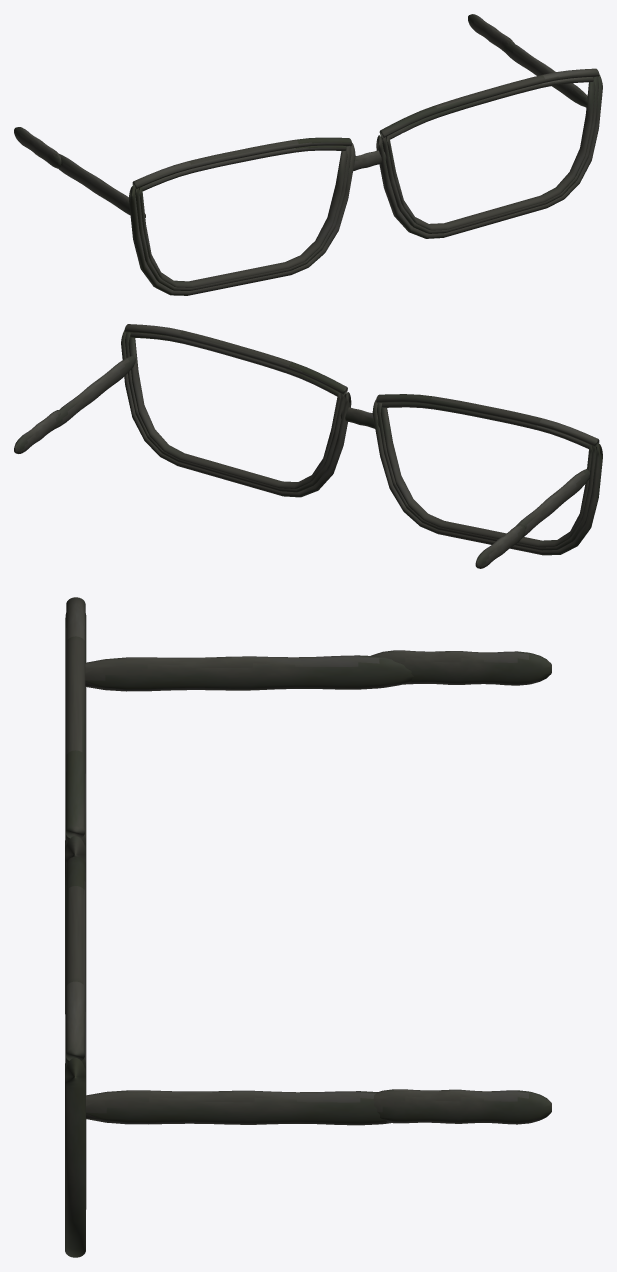
3 renders of one model, top to bottom at view 1: azimuth 30°, elevation 25°; view 2: azimuth 150°, elevation 25°; view 3: azimuth 270°, elevation 25°, orthographic. The views are drawn at different scales.
Visible parts, largest first — view 1: Cylinder.015, Cylinder.014, Cylinder.010, Cylinder.019, Cylinder.018, Cylinder.011, Cylinder.017, Cylinder.012, Mball.014, Mball.008, Cylinder.013, Cylinder.016 (+3 smaller); view 2: Cylinder.015, Cylinder.014, Cylinder.010, Cylinder.019, Cylinder.018, Cylinder.011, Cylinder.017, Cylinder.012, Mball.008, Mball.014, Cylinder.013, Cylinder.016 (+3 smaller); view 3: Mball.014, Mball.008, Mball.009, Mball.011, Cylinder.011, Cylinder.019, Cylinder.018.
Boxes of the visible parts, <box> form: Cylinder.015: <box>386,80,595,230</box>; Cylinder.014: <box>139,149,347,287</box>; Cylinder.010: <box>129,143,355,295</box>; Cylinder.019: <box>376,74,602,238</box>; Cylinder.018: <box>379,68,599,138</box>; Cylinder.011: <box>132,137,351,189</box>; Cylinder.017: <box>381,76,598,233</box>; Cylinder.012: <box>135,146,351,290</box>; Mball.014: <box>58,154,145,217</box>; Mball.008: <box>502,43,587,107</box>; Cylinder.013: <box>142,145,346,191</box>; Cylinder.016: <box>389,77,593,139</box>; Cylinder.015: <box>128,336,341,488</box>; Cylinder.014: <box>380,405,592,547</box>; Cylinder.010: <box>372,399,602,555</box>; Cylinder.019: <box>121,330,351,497</box>; Cylinder.018: <box>124,324,347,394</box>; Cylinder.011: <box>376,394,599,446</box>; Cylinder.017: <box>125,332,346,492</box>; Cylinder.012: <box>377,402,596,550</box>; Mball.008: <box>55,356,135,428</box>; Mball.014: <box>516,469,589,537</box>; Cylinder.013: <box>382,402,589,448</box>; Cylinder.016: <box>130,332,338,396</box>; Mball.014: <box>85,655,413,691</box>; Mball.008: <box>86,1090,390,1125</box>; Mball.009: <box>373,1089,551,1124</box>; Mball.011: <box>371,650,551,685</box>; Cylinder.011: <box>65,597,85,838</box>; Cylinder.019: <box>65,1058,86,1257</box>; Cylinder.018: <box>65,856,85,1060</box>.
Bounding box in the file's own units: 0.1852 × 0.0517 × 0.0829.
1 material, 1 textured.
